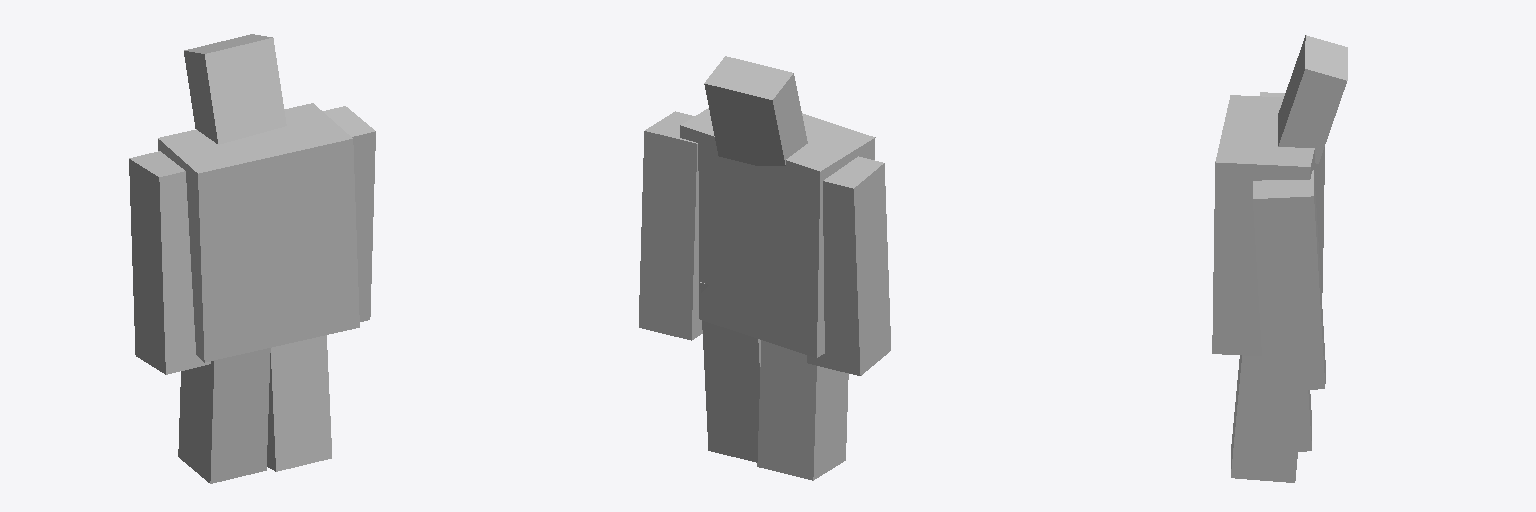
Rendered from walk_000001.obj.
3 renders of one model, left to right at view 1: azimuth 30°, elevation 25°; view 2: azimuth 150°, elevation 25°; view 3: azimuth 270°, elevation 25°, orthographic.
Visible parts, largest first — view 1: Cube, leg.003_Cube.002, leg_Cube.001, Cube.001_Cube.003, leg.001_Cube.007, leg.002_Cube.006; view 2: Cube, leg.003_Cube.002, leg.002_Cube.006, leg_Cube.001, Cube.001_Cube.003, leg.001_Cube.007, Plane.002; view 3: Cube, leg.002_Cube.006, leg.001_Cube.007, Cube.001_Cube.003, leg_Cube.001.
Part boxes in pixels (bbox=[...]): Cube: bbox=[158, 103, 359, 362]; leg.003_Cube.002: bbox=[129, 151, 210, 374]; leg_Cube.001: bbox=[178, 348, 270, 483]; Cube.001_Cube.003: bbox=[184, 34, 286, 144]; leg.001_Cube.007: bbox=[267, 335, 331, 471]; leg.002_Cube.006: bbox=[323, 106, 375, 321]; Cube: bbox=[680, 108, 875, 357]; leg.003_Cube.002: bbox=[807, 156, 890, 375]; leg.002_Cube.006: bbox=[639, 111, 702, 340]; leg_Cube.001: bbox=[757, 340, 848, 480]; Cube.001_Cube.003: bbox=[704, 56, 807, 165]; leg.001_Cube.007: bbox=[700, 282, 760, 462]; Plane.002: bbox=[724, 128, 773, 163]; Cube: bbox=[1212, 95, 1324, 355]; leg.002_Cube.006: bbox=[1253, 170, 1325, 391]; leg.001_Cube.007: bbox=[1231, 355, 1303, 482]; Cube.001_Cube.003: bbox=[1278, 35, 1347, 163]; leg_Cube.001: bbox=[1298, 390, 1311, 451].
Size of the model in its own units: 3.47 by 6.28 by 1.91.